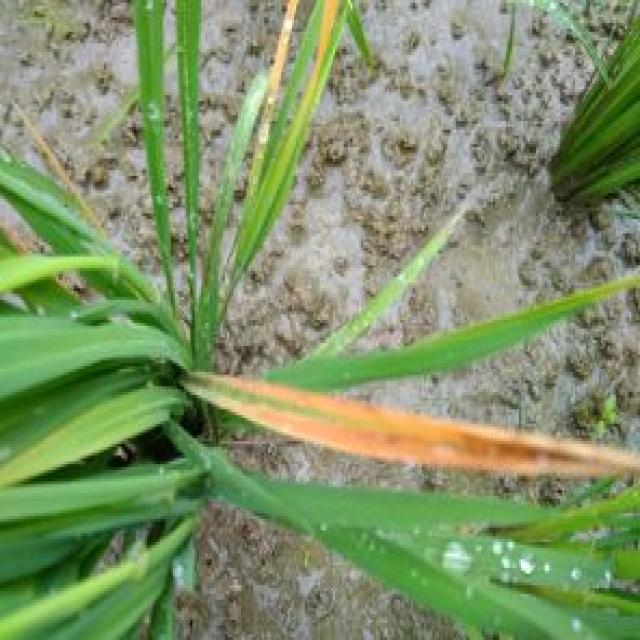Tungro: (200, 332, 640, 514)
